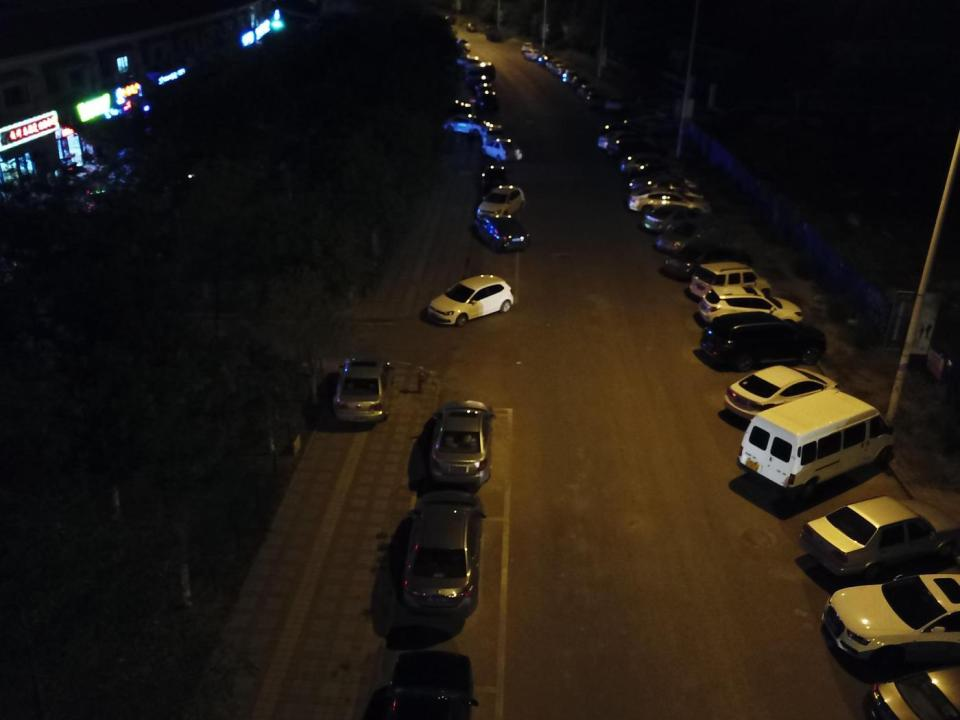car: (818, 570, 960, 669), (798, 495, 958, 574), (403, 486, 490, 617), (702, 312, 829, 372), (722, 361, 843, 423), (431, 396, 498, 485), (697, 284, 804, 332), (428, 270, 515, 327), (334, 354, 398, 426), (664, 241, 754, 282), (688, 258, 775, 296), (628, 188, 711, 222), (635, 178, 706, 217), (474, 212, 532, 256), (652, 219, 724, 253), (630, 170, 700, 200), (643, 204, 711, 232), (475, 184, 528, 219), (601, 121, 657, 150), (598, 130, 660, 156), (618, 153, 680, 178), (607, 137, 670, 161), (482, 138, 523, 164), (444, 110, 482, 136), (479, 164, 508, 192), (475, 90, 500, 114), (482, 121, 505, 145), (583, 91, 612, 109), (606, 94, 628, 115), (570, 74, 593, 93), (576, 83, 602, 99), (458, 54, 484, 70), (545, 58, 567, 74), (475, 82, 494, 99), (561, 69, 581, 85), (552, 63, 572, 78), (538, 53, 558, 68), (453, 39, 471, 53), (524, 47, 542, 60), (520, 42, 536, 54), (466, 20, 477, 31)
truck: (484, 25, 504, 42)
van: (737, 388, 898, 494), (464, 61, 500, 84)
